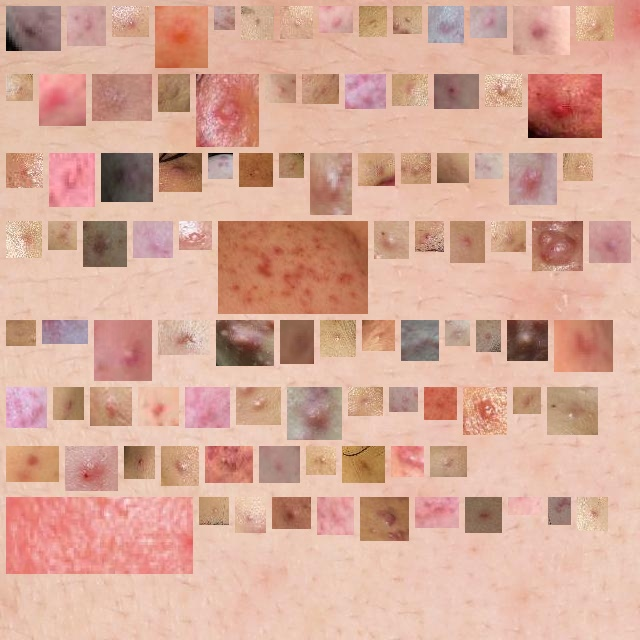papule: (14, 505, 185, 566), (226, 229, 360, 306), (536, 82, 594, 130), (204, 82, 251, 139), (102, 328, 147, 373), (163, 14, 200, 60), (562, 328, 605, 364), (295, 395, 334, 432), (100, 82, 144, 113), (521, 14, 562, 47), (224, 328, 266, 358), (318, 161, 344, 207), (540, 229, 575, 263), (109, 161, 145, 194), (517, 161, 549, 197), (57, 161, 87, 199), (14, 14, 53, 43), (555, 395, 590, 427), (47, 82, 78, 118), (73, 454, 110, 483), (368, 505, 401, 533), (471, 395, 499, 427), (91, 229, 119, 259), (14, 454, 51, 474), (193, 395, 222, 420), (166, 328, 202, 347), (597, 229, 623, 255), (213, 454, 245, 475), (244, 395, 273, 417), (515, 328, 540, 353), (14, 395, 39, 420), (167, 161, 194, 184), (98, 395, 124, 418), (440, 82, 471, 101), (146, 395, 171, 418), (350, 454, 377, 475), (75, 14, 98, 38), (409, 328, 431, 353), (169, 454, 191, 478), (267, 454, 292, 475), (141, 229, 165, 250), (288, 328, 306, 356), (458, 229, 477, 255), (353, 82, 378, 101), (325, 505, 346, 527), (436, 14, 456, 35), (14, 229, 34, 250), (328, 328, 348, 349), (423, 505, 451, 520), (473, 505, 494, 525), (584, 14, 606, 33), (382, 229, 401, 251), (14, 161, 35, 180), (280, 505, 303, 521), (493, 82, 514, 99), (366, 161, 387, 178), (166, 82, 182, 104), (478, 14, 499, 30), (247, 161, 265, 179), (400, 82, 420, 98), (120, 14, 141, 29), (438, 454, 459, 469), (249, 14, 266, 32), (243, 505, 258, 525), (310, 82, 331, 96), (288, 14, 305, 31), (432, 395, 449, 412), (499, 229, 518, 244), (585, 505, 600, 523), (370, 328, 387, 343), (61, 395, 76, 412), (132, 454, 147, 471), (399, 454, 416, 469), (356, 395, 375, 408), (445, 161, 461, 175), (187, 229, 204, 242), (409, 161, 423, 176), (327, 14, 345, 25), (273, 82, 288, 95), (423, 229, 436, 244), (314, 454, 328, 467), (367, 14, 379, 29), (56, 229, 69, 242), (571, 161, 585, 173), (207, 505, 221, 517), (401, 14, 414, 26), (484, 328, 493, 344), (14, 328, 28, 338), (521, 395, 533, 406), (14, 82, 25, 93), (483, 161, 495, 171), (397, 395, 410, 404), (216, 161, 225, 171), (453, 328, 462, 338), (556, 505, 563, 517), (287, 161, 296, 170), (222, 14, 227, 22)
